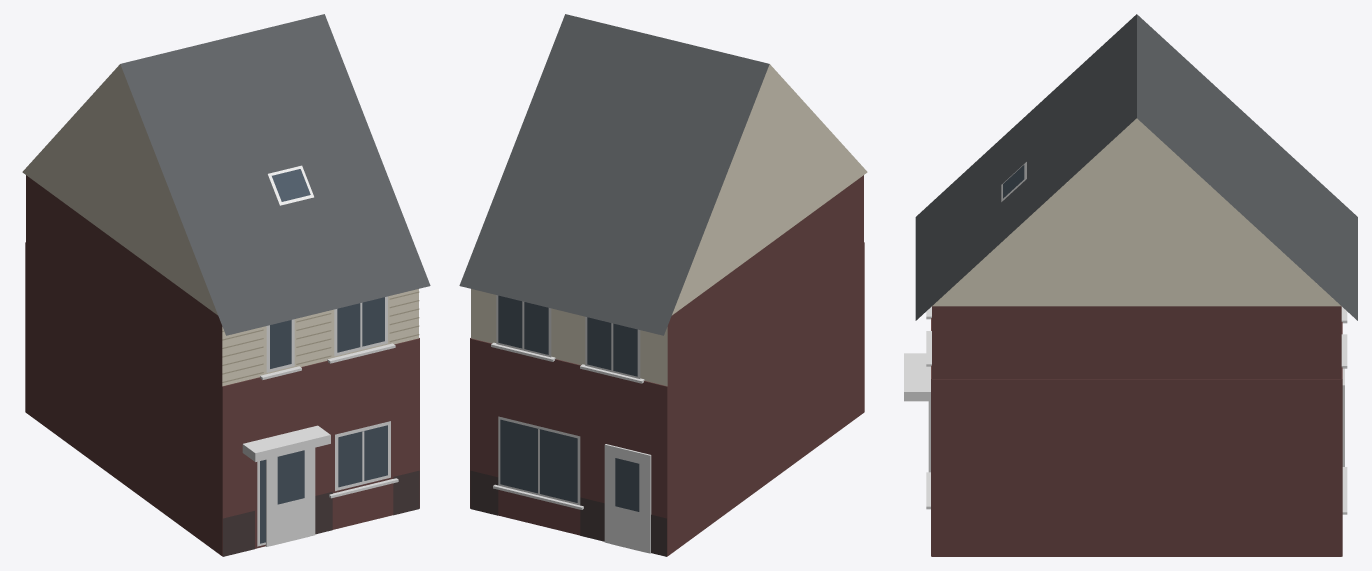
The model's file is th-gk-row__hood__2__gable__long__solid__f0d0__mirror.glb.
3 renders of one model, left to right at view 1: azimuth 30°, elevation 25°; view 2: azimuth 150°, elevation 25°; view 3: azimuth 270°, elevation 25°, orthographic. The views are drawn at different scales.
Visible parts, largest first — view 1: th-gk-row__hood__2__gable__long__solid__f0d0__mirror; view 2: th-gk-row__hood__2__gable__long__solid__f0d0__mirror; view 3: th-gk-row__hood__2__gable__long__solid__f0d0__mirror.
Boxes of the visible parts, left/top/right/bottom form: th-gk-row__hood__2__gable__long__solid__f0d0__mirror: left=22, top=14, right=430, bottom=556; th-gk-row__hood__2__gable__long__solid__f0d0__mirror: left=459, top=14, right=867, bottom=556; th-gk-row__hood__2__gable__long__solid__f0d0__mirror: left=904, top=14, right=1357, bottom=556.
Size of the model in its own units: 5.29 by 10.42 by 9.73.
